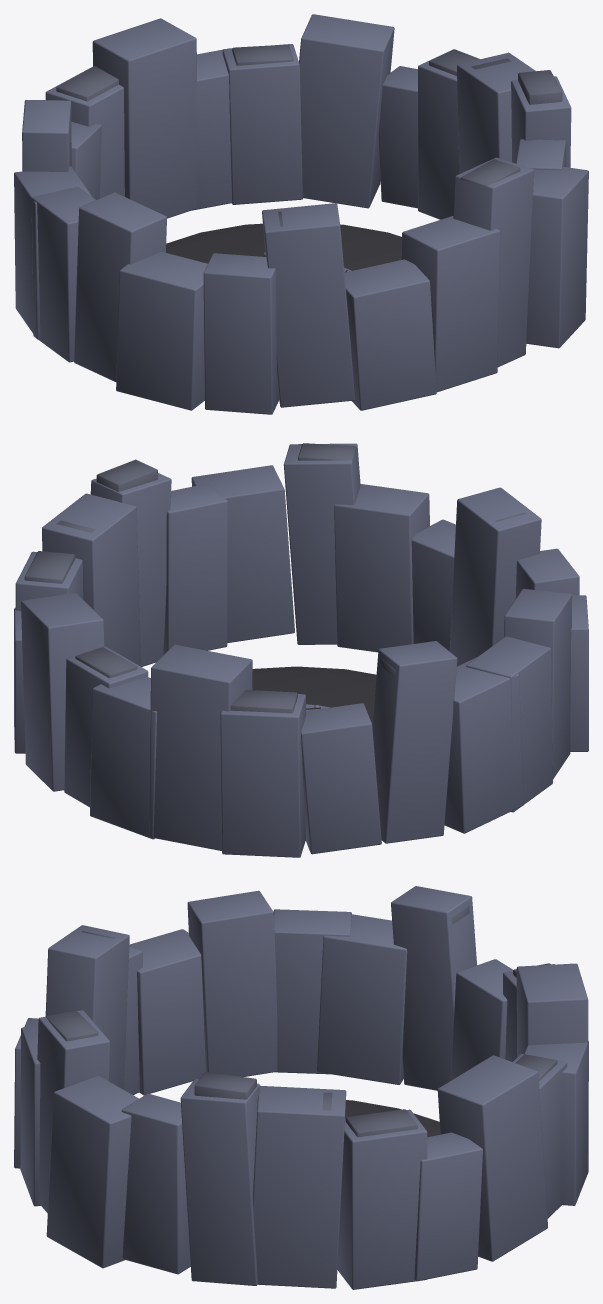
Rendered from gale_serpent.glb.
The picture shows the model from 3 angles, top to bottom: view 1: azimuth 30°, elevation 25°; view 2: azimuth 150°, elevation 25°; view 3: azimuth 270°, elevation 25°; orthographic projection. The views are drawn at different scales.
Visible parts, largest first — view 1: GaleSerpentGround; view 2: GaleSerpentGround; view 3: GaleSerpentGround.
Boxes of the visible parts, <box> form: GaleSerpentGround: <box>14,14,588,414</box>; GaleSerpentGround: <box>14,443,588,857</box>; GaleSerpentGround: <box>14,886,588,1289</box>.
Bounding box in the file's own units: 44.59 × 17.28 × 45.03.
Materials: 1 (1 with a texture image).
